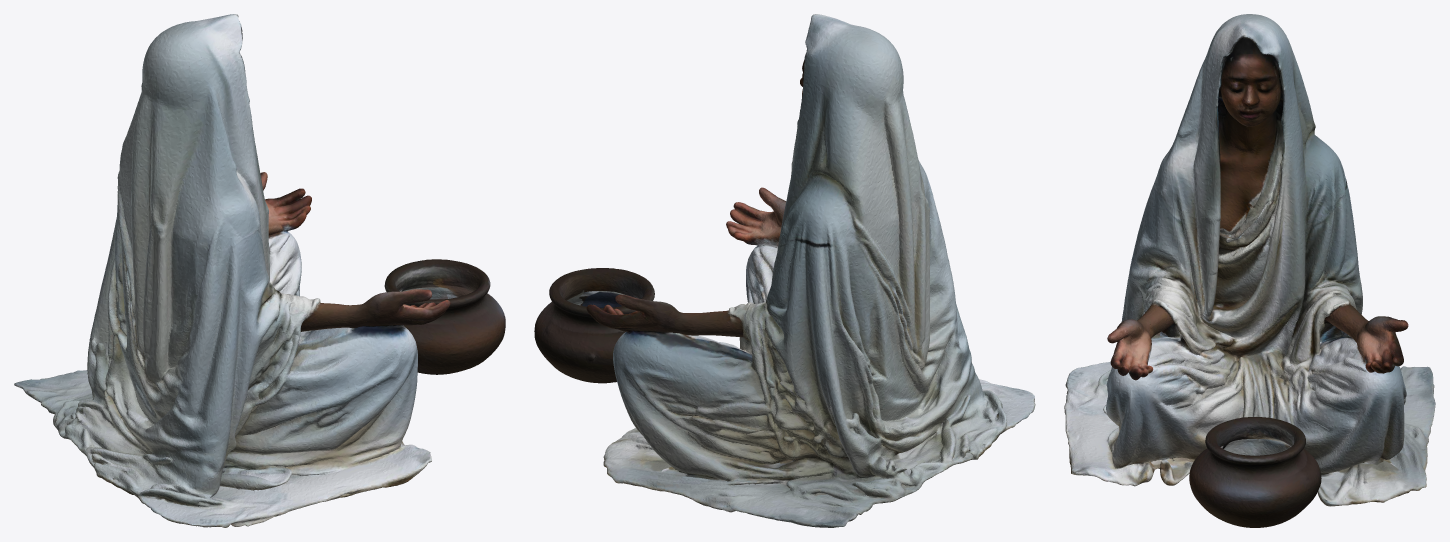
The model's file is modelo16.glb.
The picture shows the model from 3 angles, left to right: view 1: azimuth 30°, elevation 25°; view 2: azimuth 150°, elevation 25°; view 3: azimuth 270°, elevation 25°; orthographic projection. The views are drawn at different scales.
Visible parts, largest first — view 1: tripo_node_10bc4131-fe12-4d32-a4ab-2820b3f4803b; view 2: tripo_node_10bc4131-fe12-4d32-a4ab-2820b3f4803b; view 3: tripo_node_10bc4131-fe12-4d32-a4ab-2820b3f4803b.
Boxes of the visible parts, box(x1,y1,x2,y2) form: tripo_node_10bc4131-fe12-4d32-a4ab-2820b3f4803b: box(14, 14, 505, 527); tripo_node_10bc4131-fe12-4d32-a4ab-2820b3f4803b: box(534, 14, 1035, 527); tripo_node_10bc4131-fe12-4d32-a4ab-2820b3f4803b: box(1064, 14, 1435, 527).
Size of the model in its own units: 1 by 0.978 by 0.8104.
Materials: 1 (1 with a texture image).
